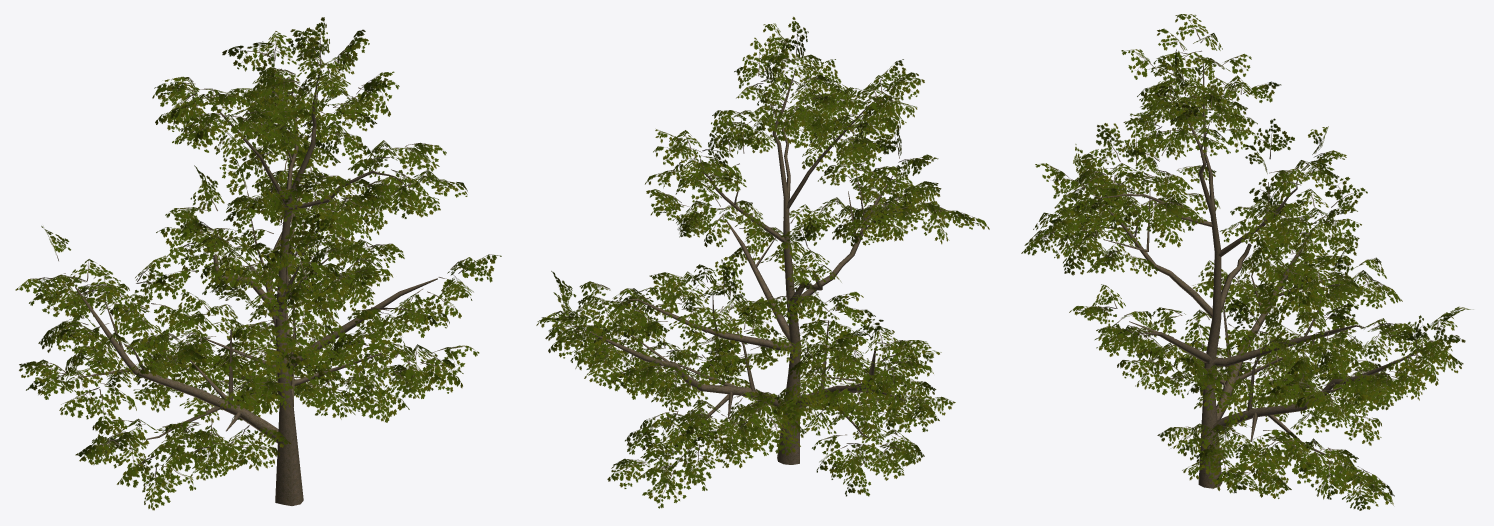
The model's file is maple_acer_large_1_lod2.gltf.
The picture shows the model from 3 angles, left to right: view 1: azimuth 30°, elevation 25°; view 2: azimuth 150°, elevation 25°; view 3: azimuth 270°, elevation 25°; orthographic projection. The views are drawn at different scales.
Parts seen in each view (by area): view 1: Acer_large_1_LOD2_Cluster_Mat_0, Acer_large_1_LOD2_Bark_Mat_0; view 2: Acer_large_1_LOD2_Cluster_Mat_0, Acer_large_1_LOD2_Bark_Mat_0; view 3: Acer_large_1_LOD2_Cluster_Mat_0, Acer_large_1_LOD2_Bark_Mat_0.
Part boxes in pixels (left/top/right/bottom): Acer_large_1_LOD2_Cluster_Mat_0: left=15, top=17, right=501, bottom=510; Acer_large_1_LOD2_Bark_Mat_0: left=75, top=76, right=437, bottom=505; Acer_large_1_LOD2_Cluster_Mat_0: left=536, top=16, right=989, bottom=508; Acer_large_1_LOD2_Bark_Mat_0: left=583, top=70, right=917, bottom=464; Acer_large_1_LOD2_Cluster_Mat_0: left=1021, top=14, right=1470, bottom=510; Acer_large_1_LOD2_Bark_Mat_0: left=1079, top=63, right=1413, bottom=488.
Bounding box in the file's own units: 18.69 × 20.78 × 19.56.
2 materials, 2 textured.
